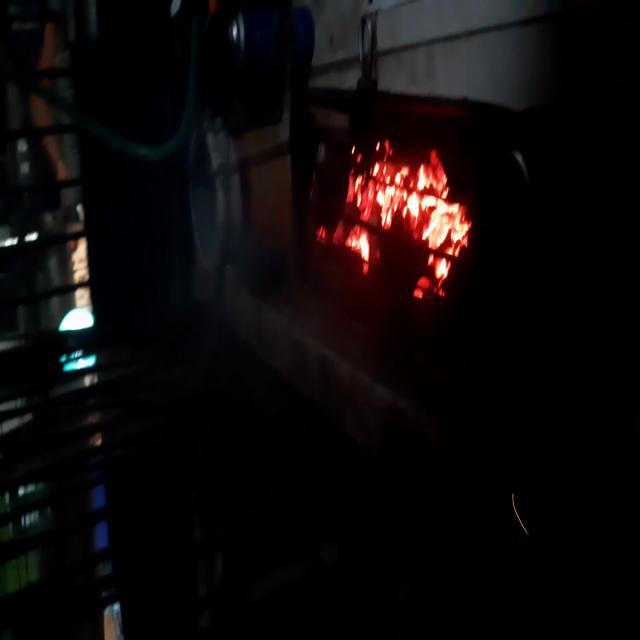Fire: (309, 126, 477, 334)
